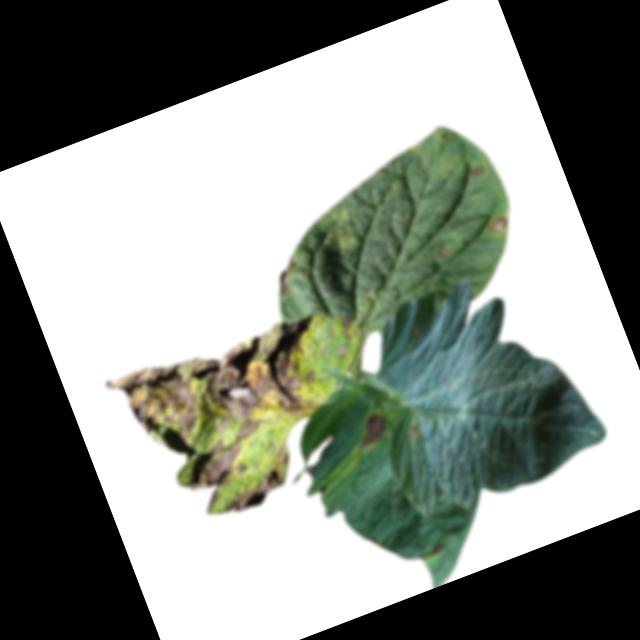Early_blight: (103, 304, 349, 507), (213, 462, 297, 522), (268, 255, 307, 297), (354, 410, 393, 447), (482, 212, 513, 236), (336, 313, 361, 339), (466, 161, 489, 180), (428, 539, 447, 557), (407, 421, 423, 440)
